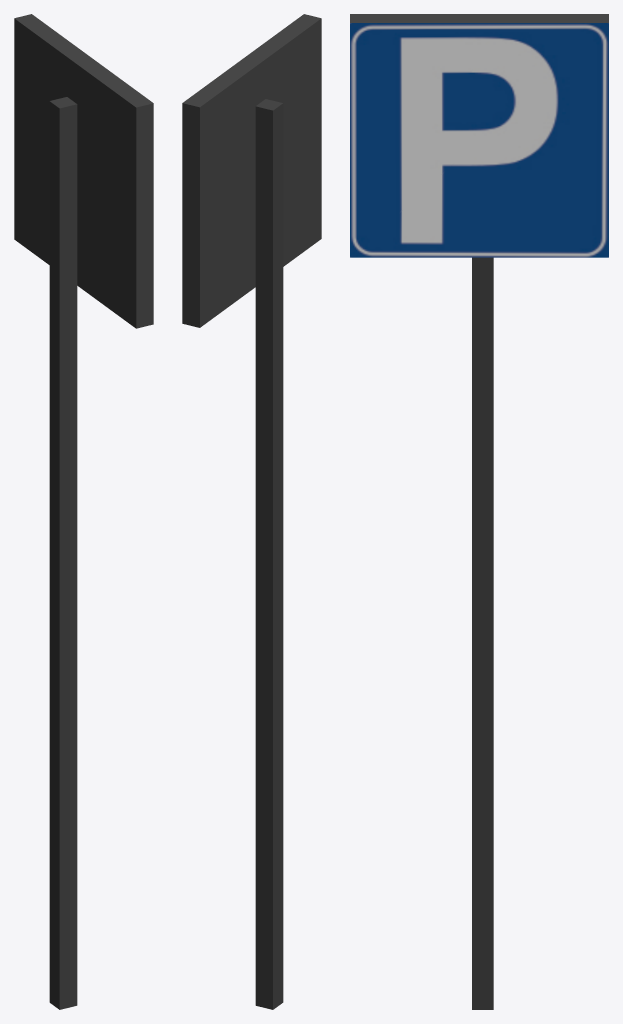
The model's file is park_levha.dae.
3 renders of one model, left to right at view 1: azimuth 30°, elevation 25°; view 2: azimuth 150°, elevation 25°; view 3: azimuth 270°, elevation 25°, orthographic. The views are drawn at different scales.
Visible parts, largest first — view 1: Cube, Cube.004; view 2: Cube, Cube.004; view 3: Cube, Cube.004.
Part boxes in pixels (left/top/right/bottom): Cube: left=14, top=14, right=153, bottom=328; Cube.004: left=49, top=97, right=77, bottom=1009; Cube: left=182, top=14, right=321, bottom=327; Cube.004: left=255, top=99, right=283, bottom=1009; Cube: left=350, top=14, right=608, bottom=257; Cube.004: left=472, top=257, right=493, bottom=1009.
Size of the model in its own units: 0.104 by 0.6 by 2.55.
Materials: 3 (1 with a texture image).
